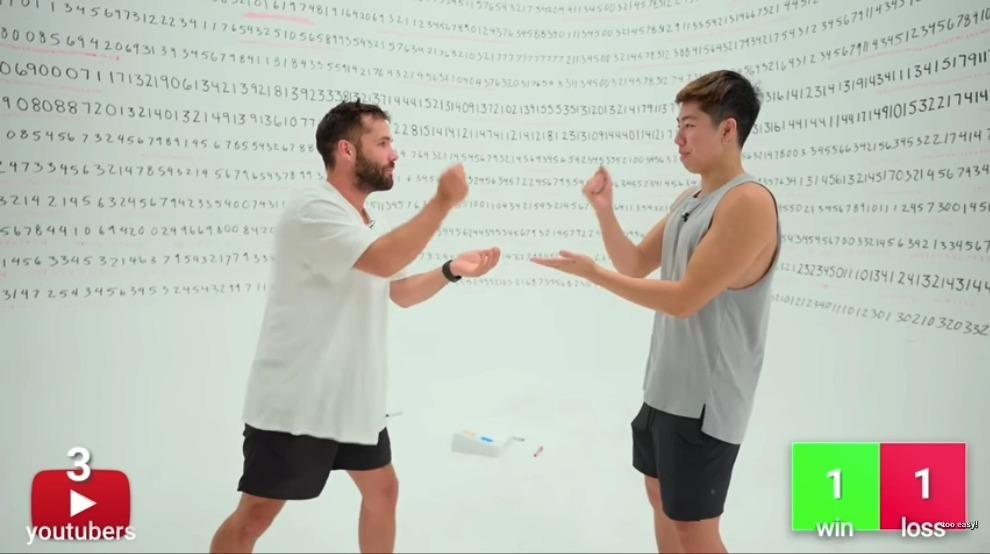Rock: (584, 162, 616, 206), (441, 163, 470, 205)
